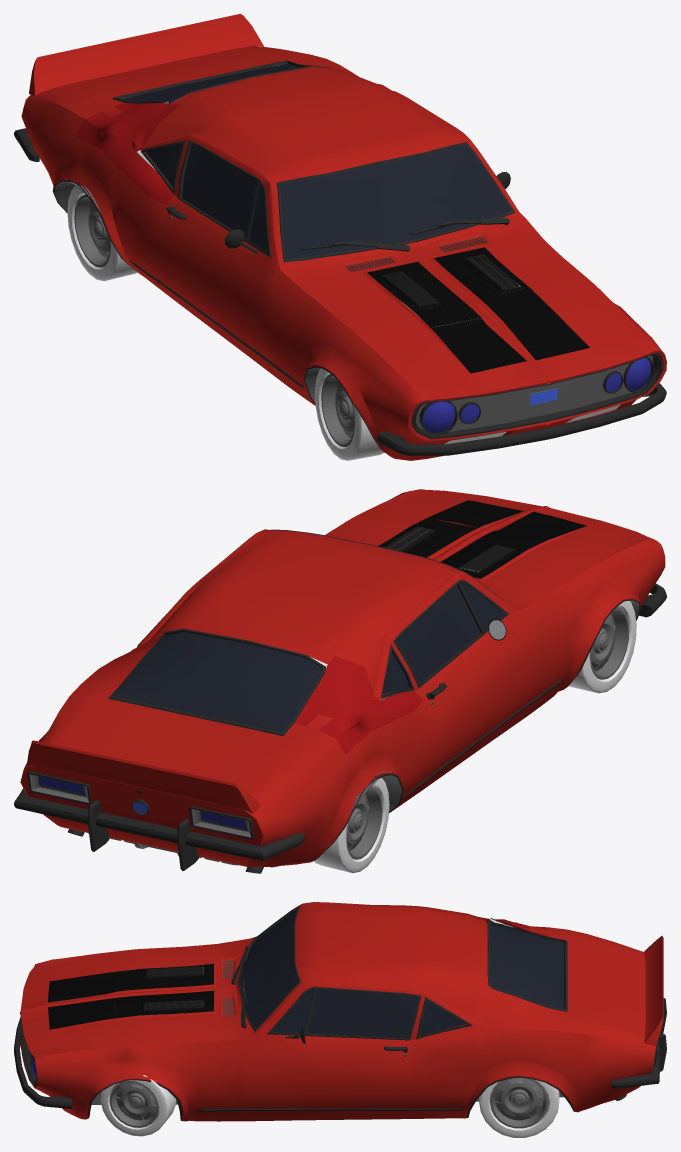
File: LowPolyOldCamaro.fbx
The picture shows the model from 3 angles, top to bottom: view 1: azimuth 30°, elevation 25°; view 2: azimuth 150°, elevation 25°; view 3: azimuth 270°, elevation 25°; orthographic projection. The views are drawn at different scales.
Parts seen in each view (by area): view 1: car; view 2: car; view 3: car.
Part boxes in pixels (x1,y1,x2,y2): car: (14,14,666,460); car: (14,489,666,873); car: (14,902,666,1137).
Size of the model in its own units: 808 by 499 by 1938.
